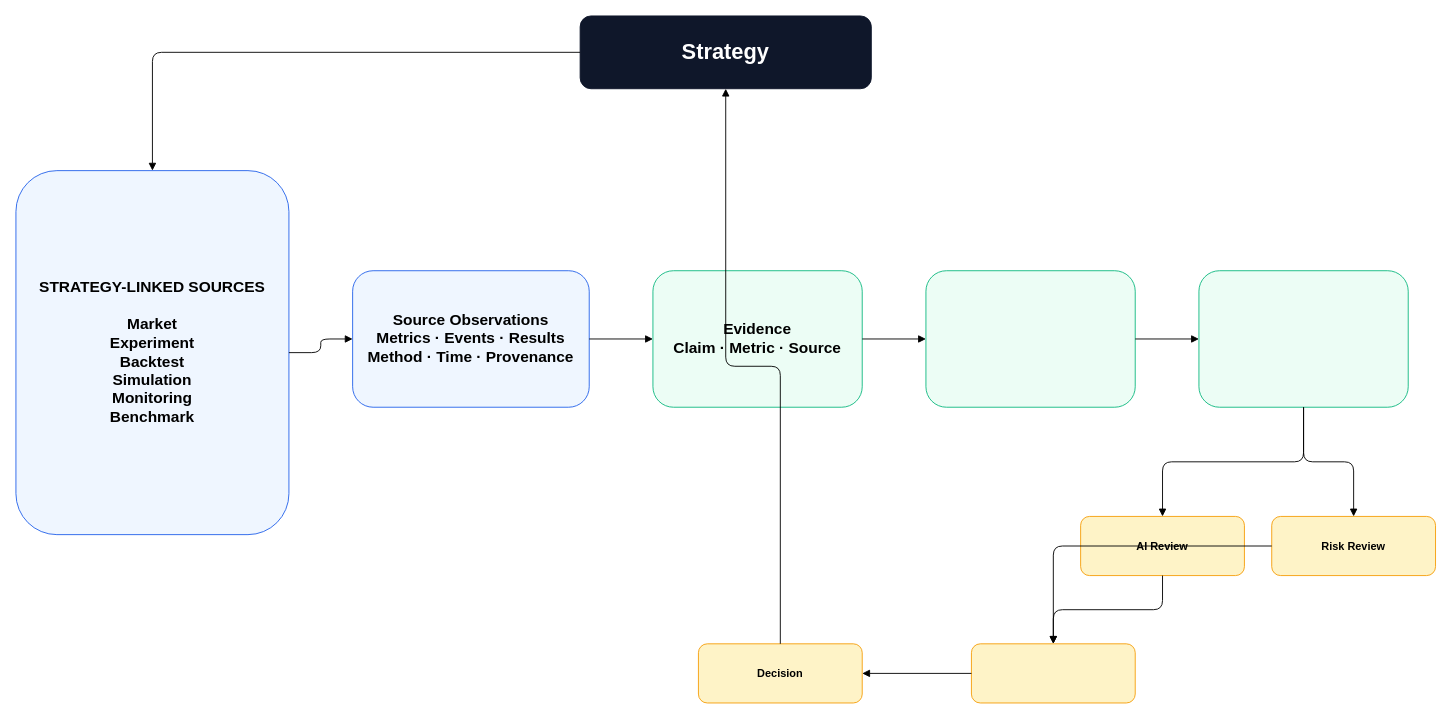
The diagram is 1451 pixels wide and 719 high, and some of its shapes have lost their labels. Each missing label, with the box of its shape:
Data Confidence Quality · Freshness · Bias: (925, 270, 1135, 407)
Review: (971, 643, 1135, 703)
Validation Robustness & Sufficiency: (1198, 270, 1408, 407)
